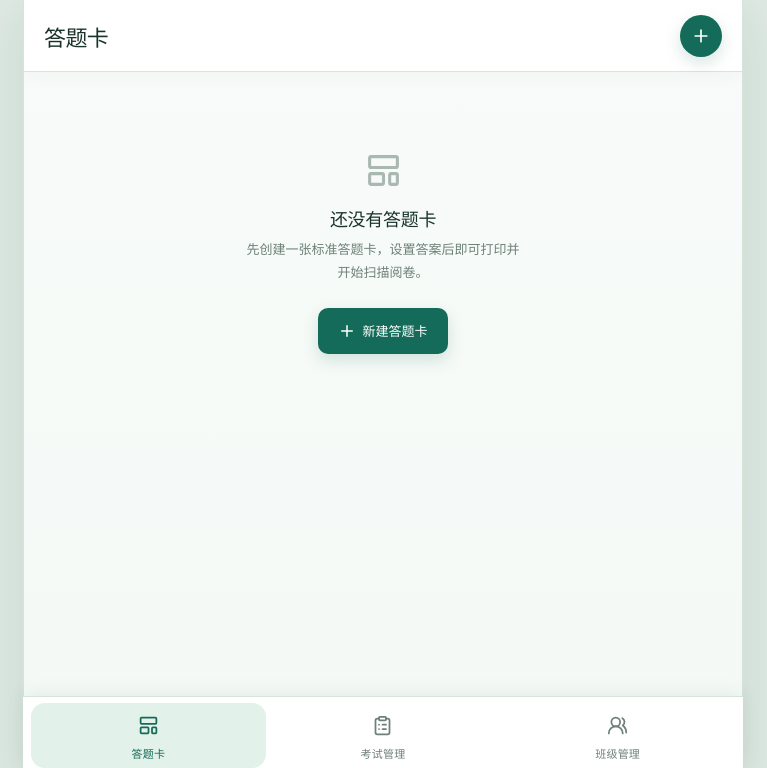
Test: Answer Sheet Manager H5 › opens the creation route from the answer sheet list
The image size is (767, 768).
Step 1. Click the button "新建答题卡" → (383, 330), box [318,308,448,354]
(page scrolled)
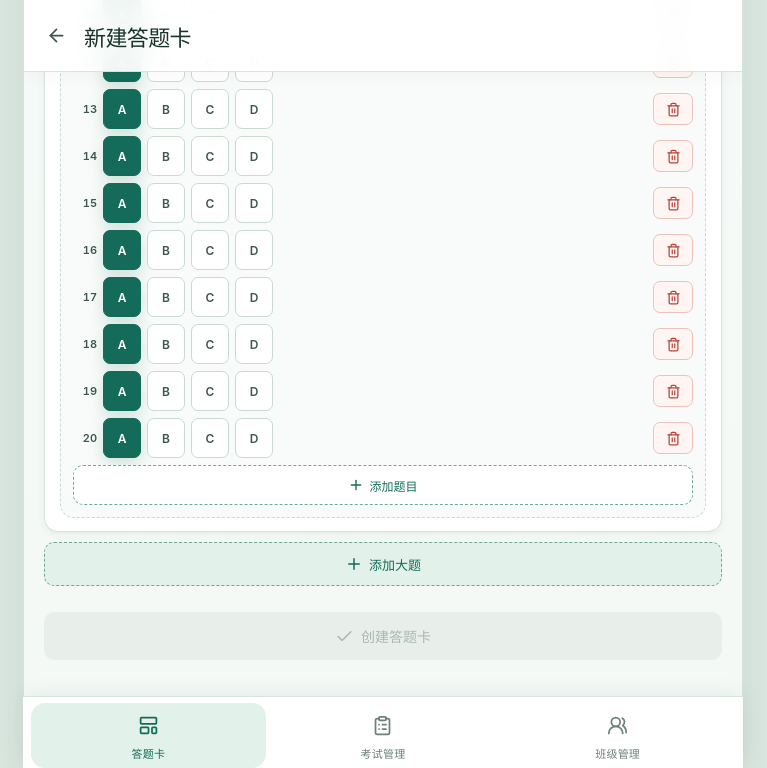
expect the heading "新建答题卡" is shown: met, box [84,24,191,50]
expect the button "创建答题卡" is disabled: met, box [44,612,722,660]
